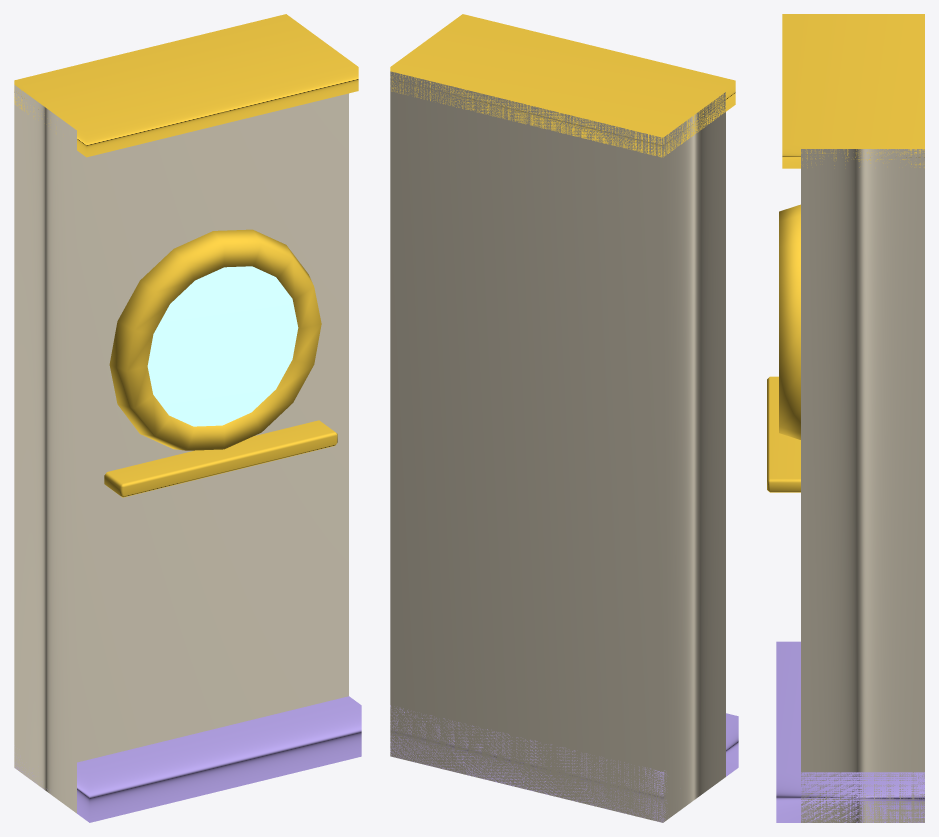
The model's file is wall_window.glb.
3 renders of one model, left to right at view 1: azimuth 30°, elevation 25°; view 2: azimuth 150°, elevation 25°; view 3: azimuth 270°, elevation 25°, orthographic.
Visible parts, largest first — view 1: Wall; view 2: Wall; view 3: Wall.
Boxes of the visible parts, x1,y1,x2,y2 form: Wall: (14, 14, 361, 822); Wall: (390, 14, 738, 822); Wall: (767, 14, 924, 822).
Bounding box in the file's own units: 1 × 2.41 × 0.51.
